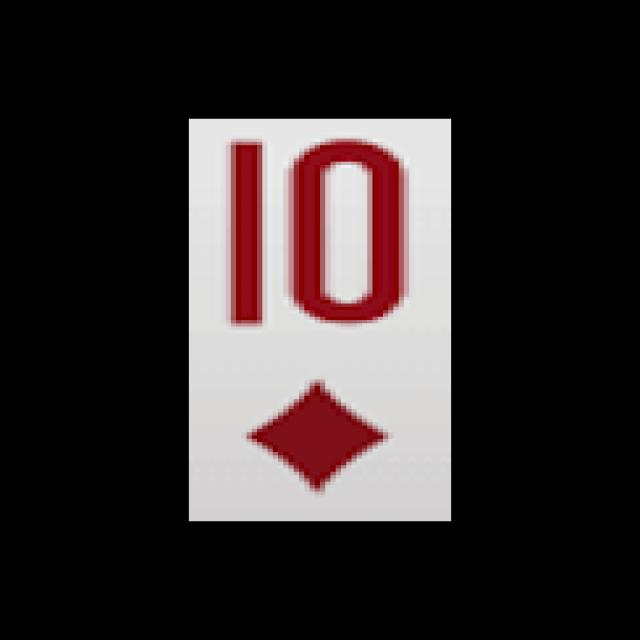10D: (212, 128, 424, 503)
